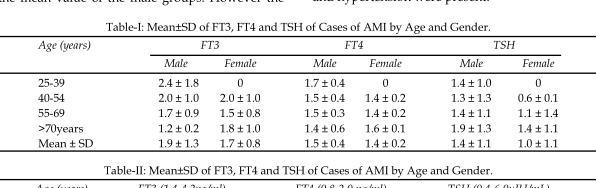table: (37, 37, 557, 149)
table column: (37, 37, 124, 149), (124, 37, 208, 149), (427, 37, 503, 149), (208, 37, 281, 149), (281, 37, 354, 149), (354, 37, 427, 149), (503, 37, 557, 149)
table column header: (37, 37, 557, 72)
table row: (37, 53, 557, 72), (37, 72, 557, 89), (37, 37, 557, 53), (37, 119, 557, 135), (37, 89, 557, 104), (37, 104, 557, 119), (37, 135, 557, 149)
table spanning cell: (37, 37, 124, 72), (124, 37, 281, 53), (281, 37, 427, 53), (427, 37, 557, 53)
